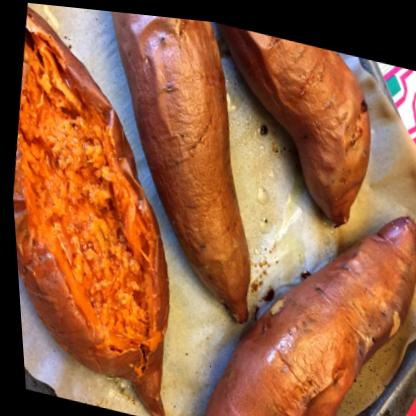---: (0, 0, 223, 416), (62, 5, 288, 317), (154, 156, 416, 416)
